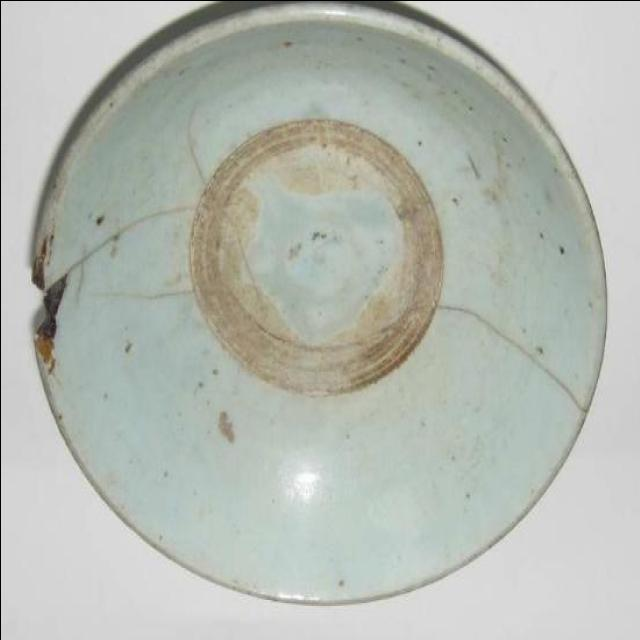-Other waste - ceramic-: (26, 0, 607, 608)
